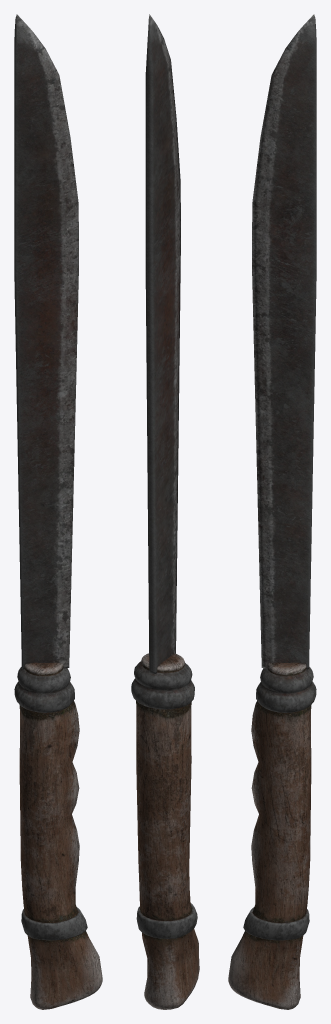
File: knife.glb
3 renders of one model, left to right at view 1: azimuth 90°, elevation 25°; view 2: azimuth 150°, elevation 25°; view 3: azimuth 270°, elevation 25°, orthographic.
Visible parts, largest first — view 1: machete; view 2: machete; view 3: machete.
Boxes of the visible parts, x1,y1,x2,y2 form: machete: [14, 14, 102, 1009]; machete: [131, 14, 199, 1009]; machete: [228, 14, 316, 1009].
Bounding box in the file's own units: 0.0444 × 0.7548 × 0.0611.
Materials: 1 (1 with a texture image).
